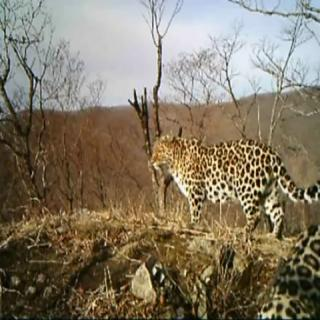Leopard: (150, 128, 320, 236)
